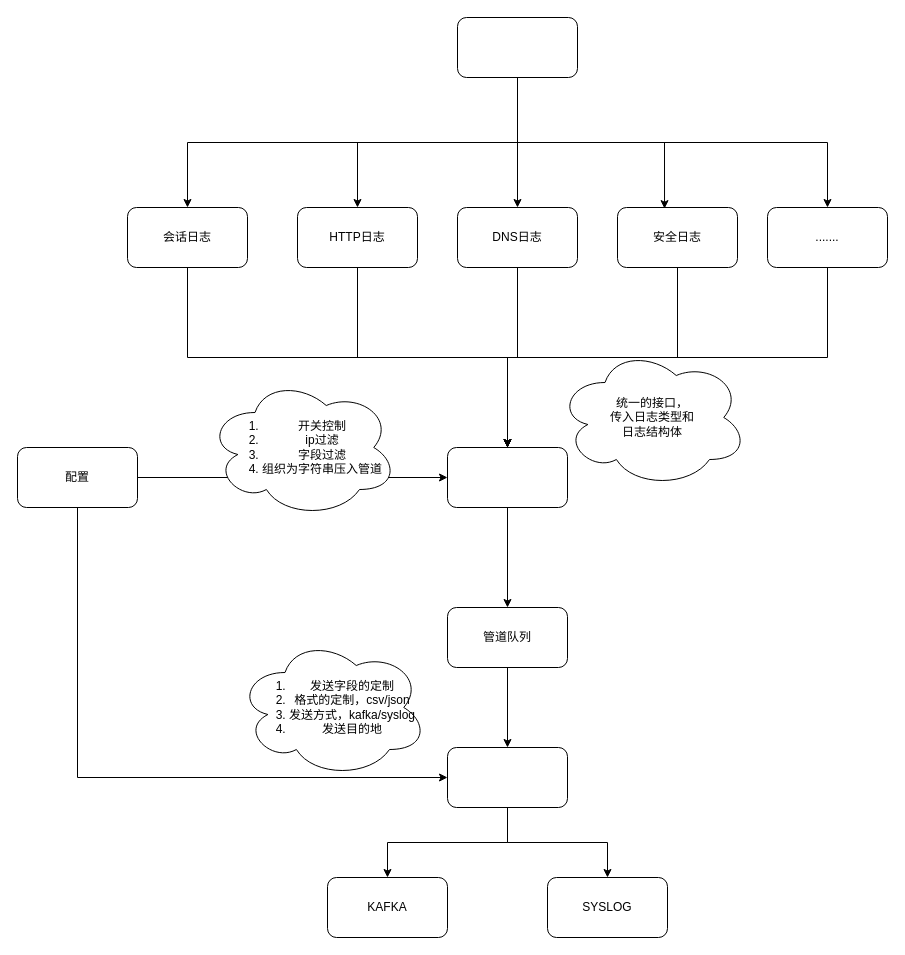
Image size: 905x955. Some labels were removed from this diagram. The shapes that lost their labels are listed below. From the top down, each one's box as (x1, y1, x2, y2) in pixels, then its label:
(456, 16, 578, 78): dbdk解析
(446, 446, 568, 508): 发送前预处理器
(446, 746, 568, 808): 发送程序
